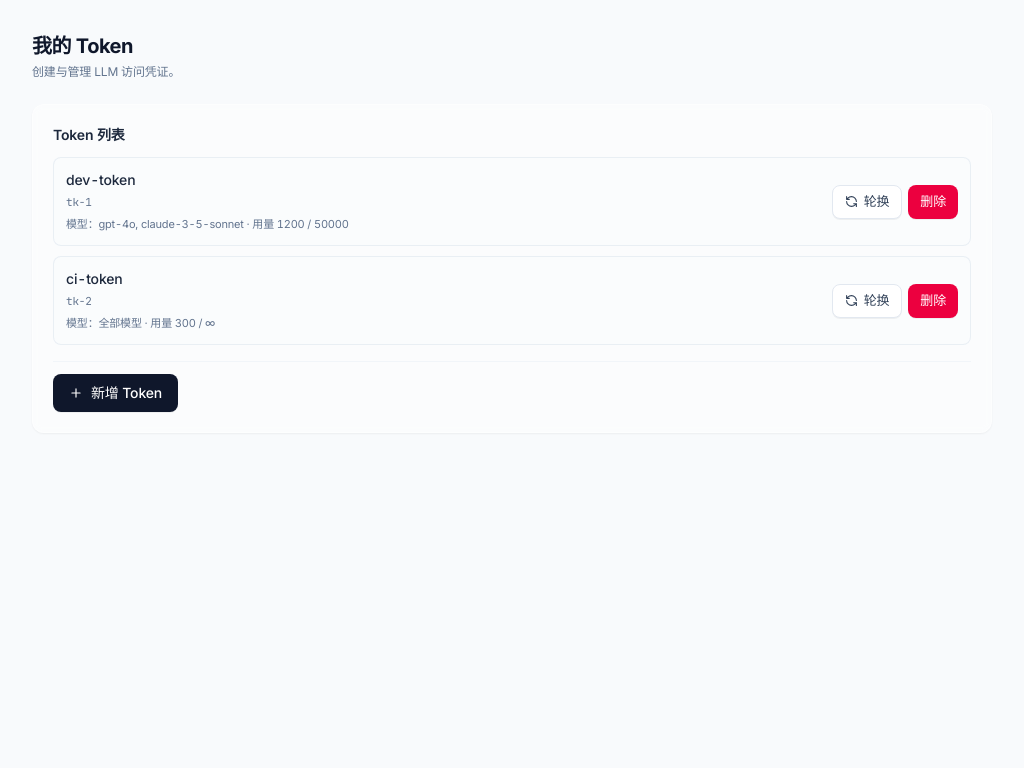
it: TokensView.vue › opens create modal on click, closes on cancel
The image size is (1024, 768).
What coordinates should you click on to do the following:
click the button with test id "open-create-token-btn"
I would click on:
 (116, 393)
Its box is x1=53 y1=374 x2=178 y2=412.
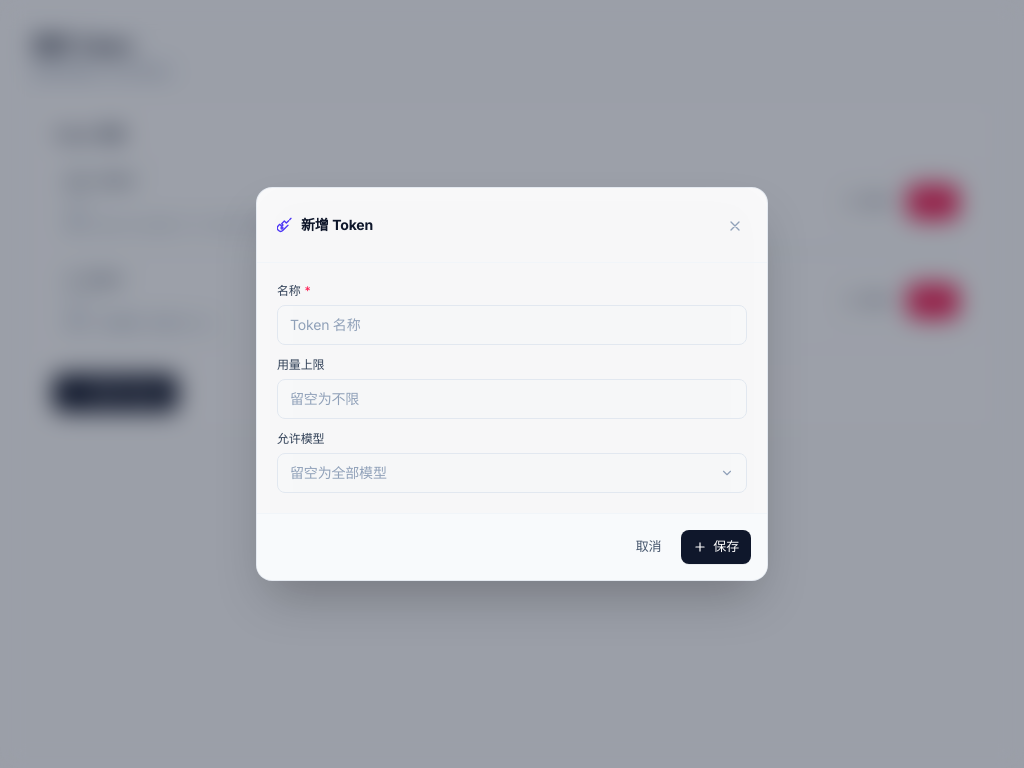
Check: the element with test id "create-token-modal" is shown
Check: the field with test id "token-name-input" is shown, box x1=277 y1=305 x2=747 y2=345
Check: the button "取消" is shown
What coordinates should you click on to do the following:
click the button "取消"
I would click on:
 (649, 547)
Its box is x1=624 y1=530 x2=673 y2=564.
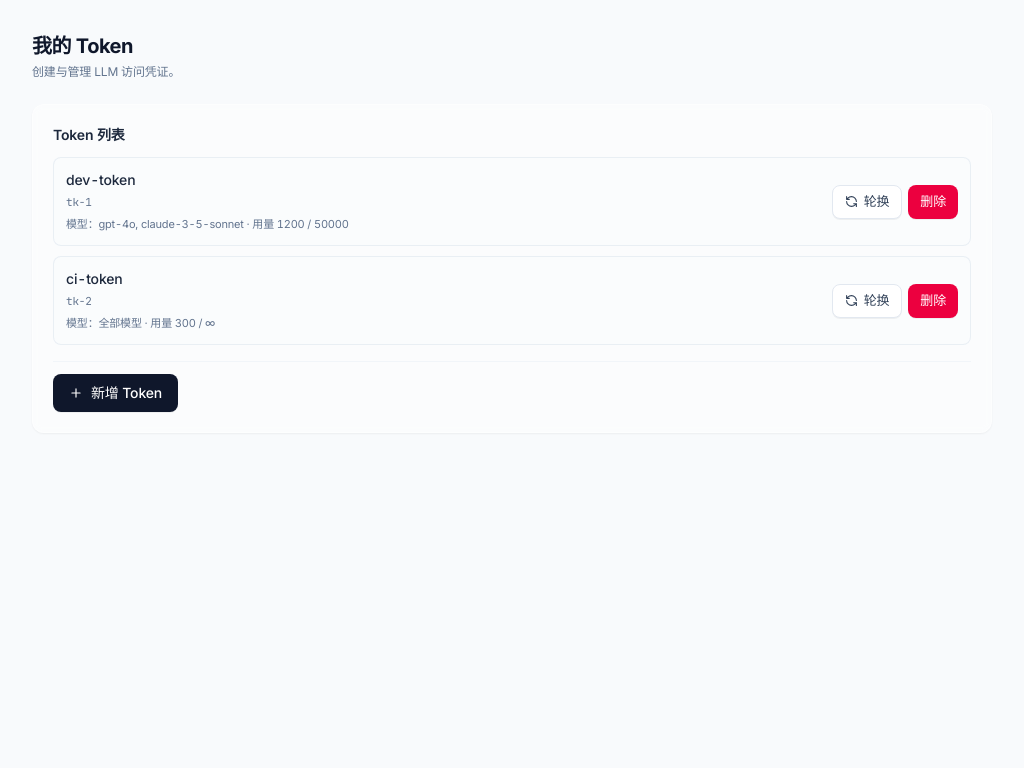
Check: the element with test id "create-token-modal" is gone
